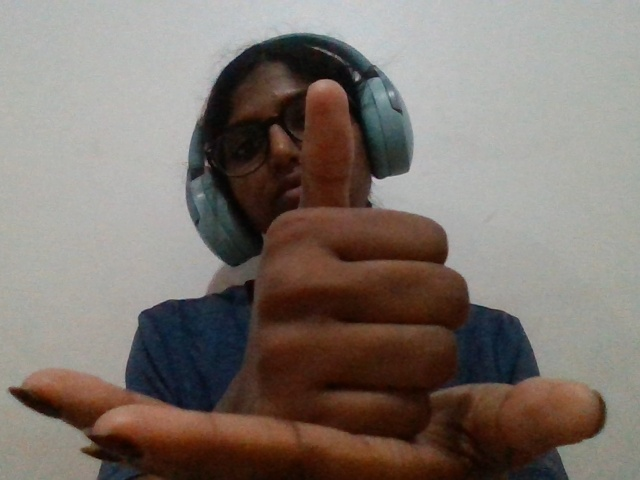Help: (9, 49, 612, 480)
